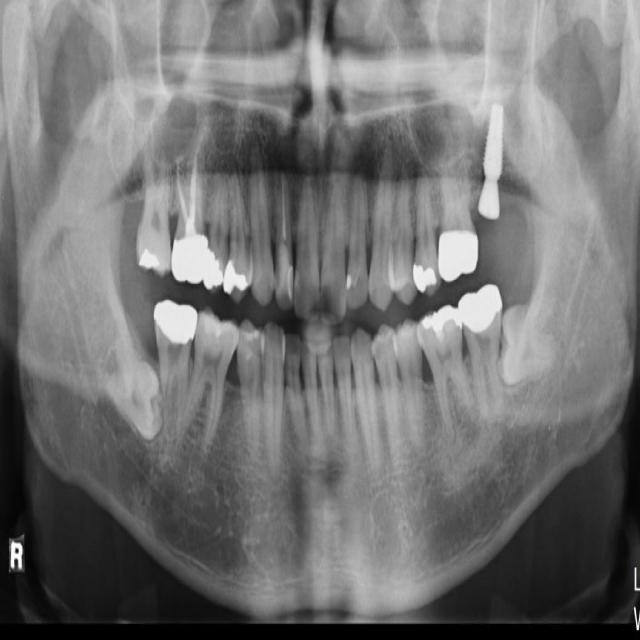52: (450, 280, 511, 338), (407, 298, 470, 353), (187, 301, 246, 354), (148, 296, 202, 347), (168, 230, 211, 285), (438, 228, 478, 283), (135, 222, 173, 278), (408, 250, 446, 300), (221, 254, 255, 308), (291, 263, 322, 322), (198, 246, 229, 295), (271, 245, 295, 308), (235, 316, 266, 364), (345, 260, 368, 311)
73: (170, 122, 208, 239), (273, 157, 294, 265), (627, 619, 634, 625)
Biomet 3i Implant: (496, 302, 566, 390)
Blue Sky Bio Implant: (457, 280, 506, 420)
Caries: (136, 124, 173, 277)
Implant: (152, 295, 206, 435)
Keystone Dental Implant: (86, 331, 187, 443)
